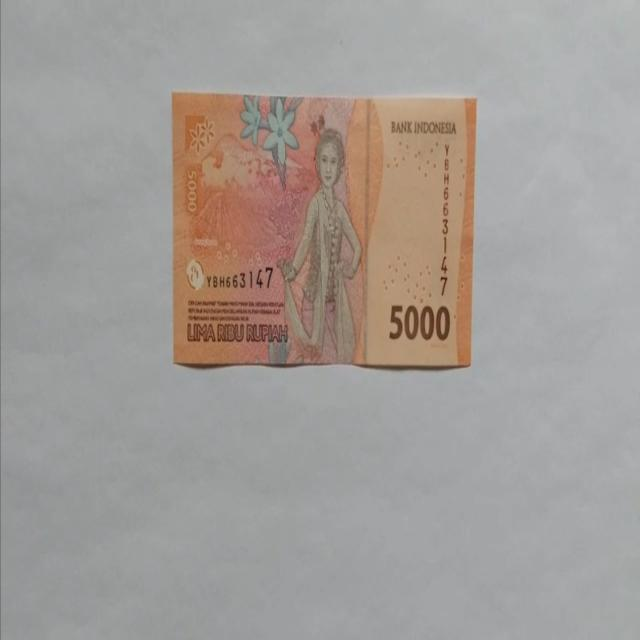lima ribu rupiah: (171, 91, 477, 369), (275, 127, 363, 364)
